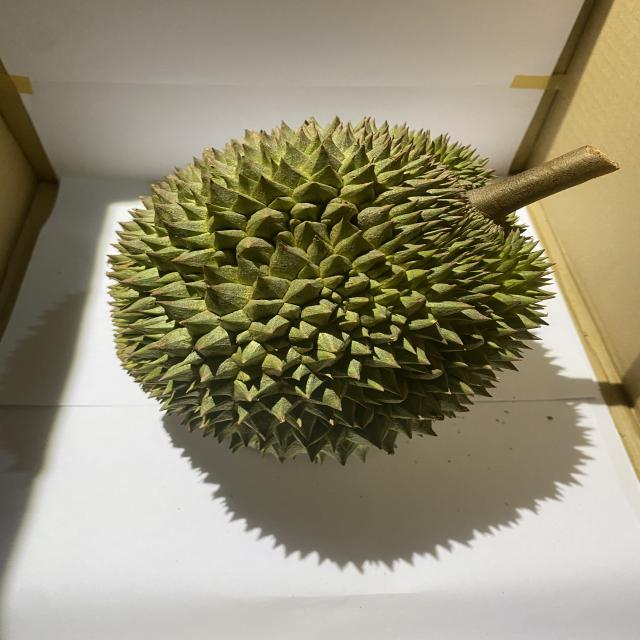immature: (104, 115, 564, 471)
